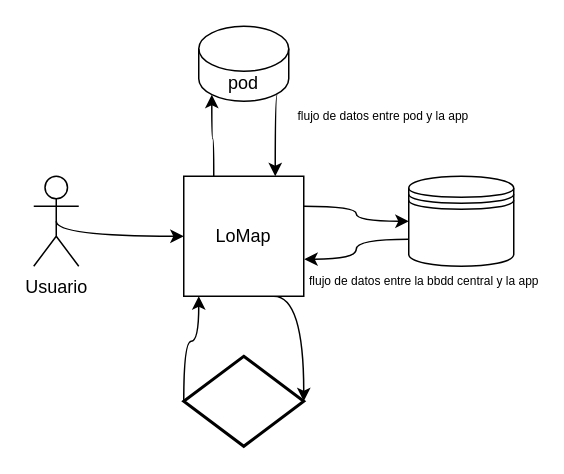
Image size: 564x474. Some labels were removed from this diagram. Each missing label, with the centre of its shape:
API: (x=243, y=400)
BBDD: (x=460, y=220)
